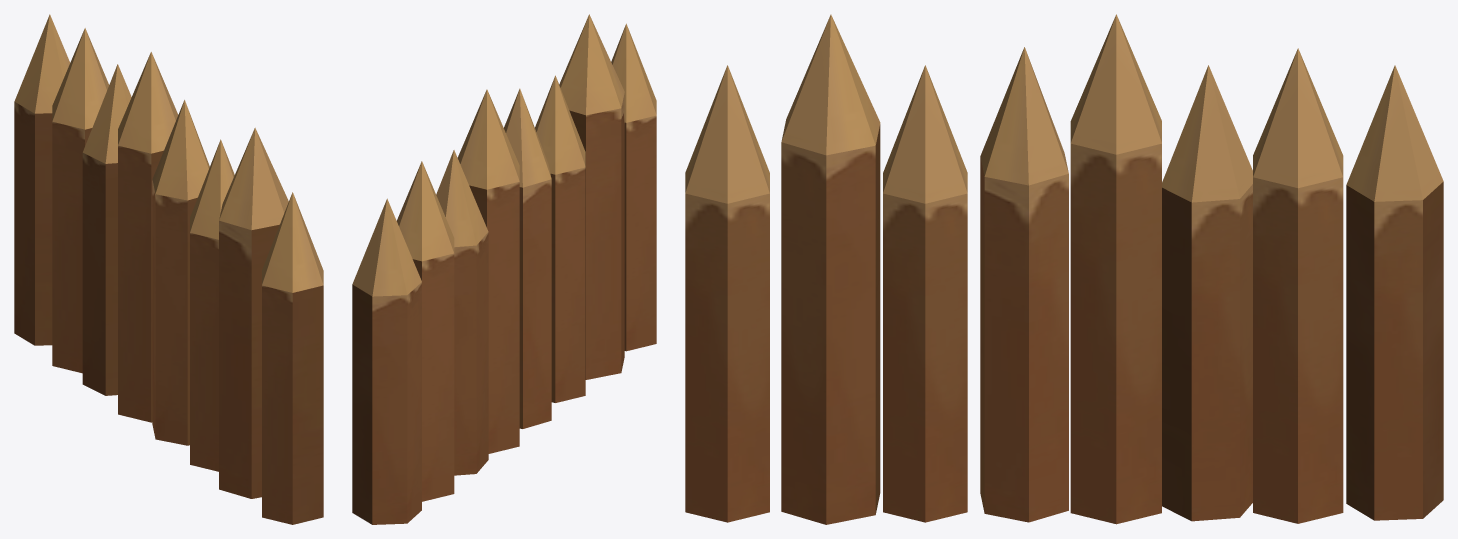
File: wall_01.fbx
3 views of the same model, side by side, from view 1: azimuth 30°, elevation 25°; view 2: azimuth 150°, elevation 25°; view 3: azimuth 270°, elevation 25° (orthographic). The views are drawn at different scales.
Visible parts, largest first — view 1: wall_01; view 2: wall_01; view 3: wall_01.
Part boxes in pixels (x1=…): wall_01: x1=14, y1=14, x2=323, y2=524; wall_01: x1=352, y1=14, x2=656, y2=524; wall_01: x1=685, y1=14, x2=1443, y2=524.
Size of the model in its own units: 32.85 by 162 by 229.
